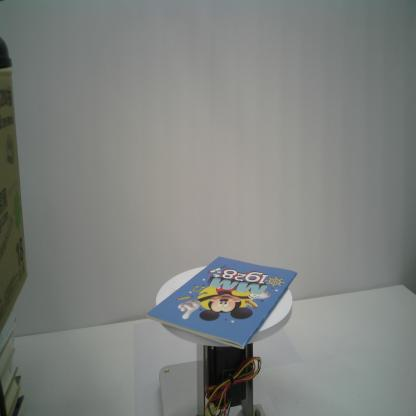Stationery: (146, 255, 299, 350)
